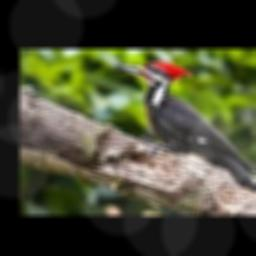Woodpecker: (114, 61, 256, 202)
